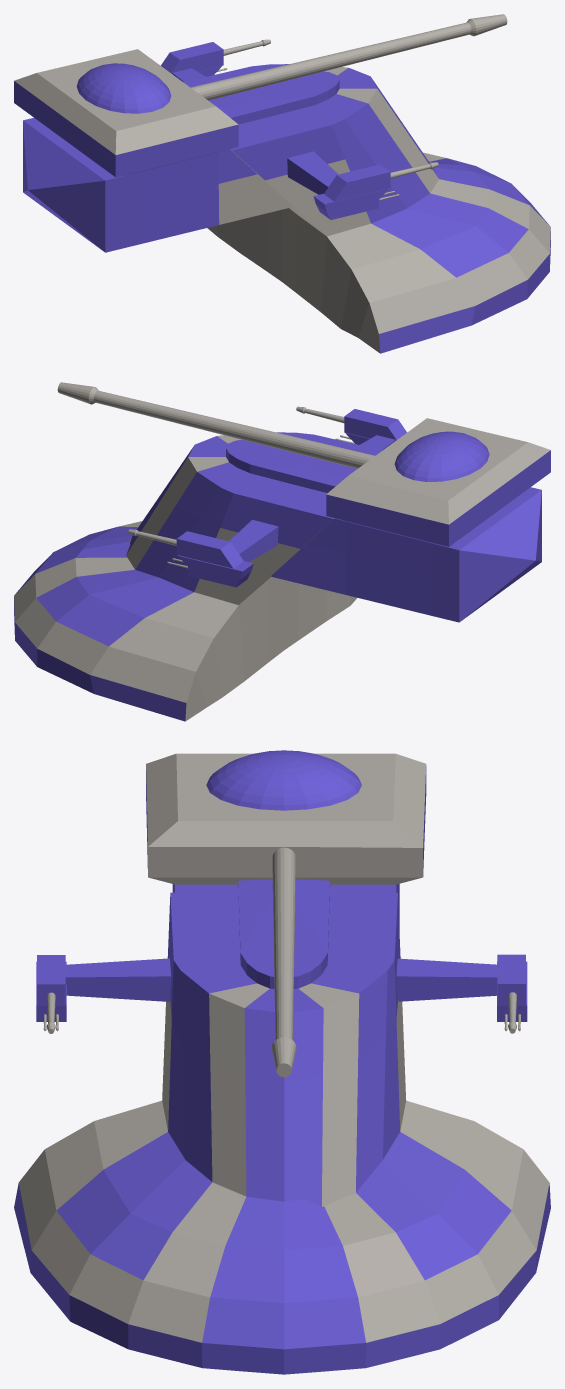
File: AAT_klar.fbx
3 views of the same model, one above another, from view 1: azimuth 30°, elevation 25°; view 2: azimuth 150°, elevation 25°; view 3: azimuth 270°, elevation 25° (orthographic). The views are drawn at different scales.
Parts seen in each view (by area): view 1: AAT; view 2: AAT; view 3: AAT.
Part boxes in pixels (box(x1,y1,x2,y2)): AAT: box(14, 14, 550, 353); AAT: box(14, 382, 550, 721); AAT: box(14, 750, 550, 1374).
Size of the model in its own units: 203 by 96.53 by 137.
